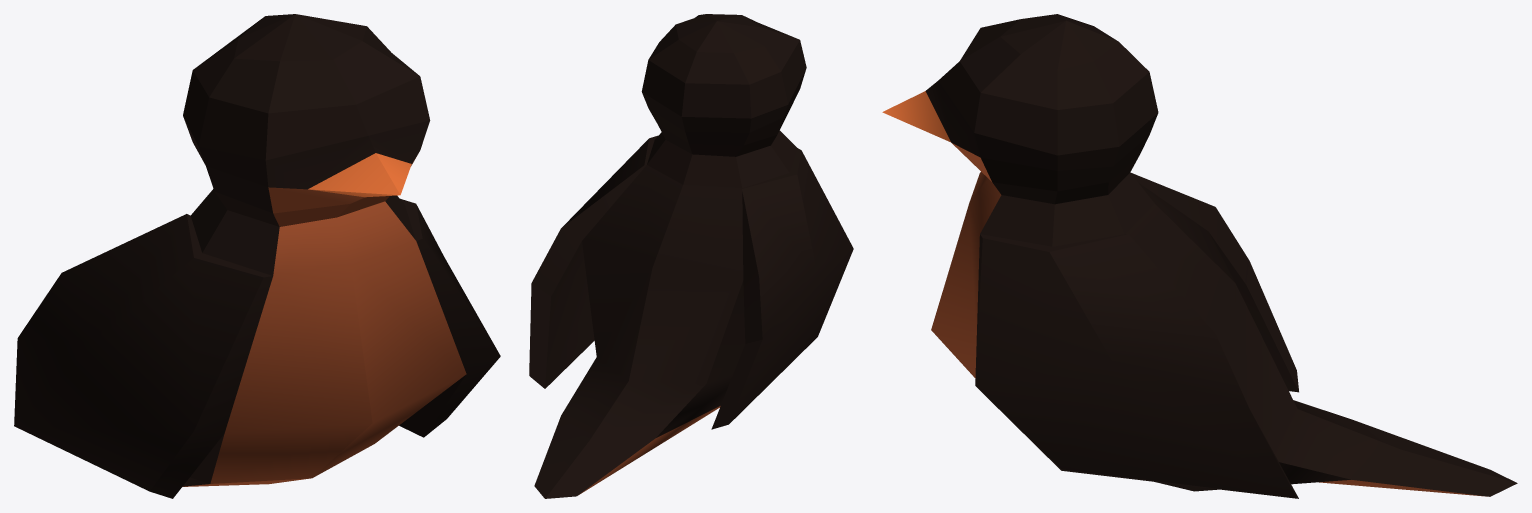
File: bird.glb
3 renders of one model, left to right at view 1: azimuth 30°, elevation 25°; view 2: azimuth 150°, elevation 25°; view 3: azimuth 270°, elevation 25°, orthographic. The views are drawn at different scales.
Parts seen in each view (by area): view 1: pCylinder3; view 2: pCylinder3; view 3: pCylinder3.
Boxes of the visible parts, box(x1,y1,x2,y2) form: pCylinder3: box(14, 14, 500, 498); pCylinder3: box(529, 14, 853, 498); pCylinder3: box(882, 14, 1517, 498).
Bounding box in the file's own units: 0.1955 × 0.281 × 0.3501.
1 material, 1 textured.
